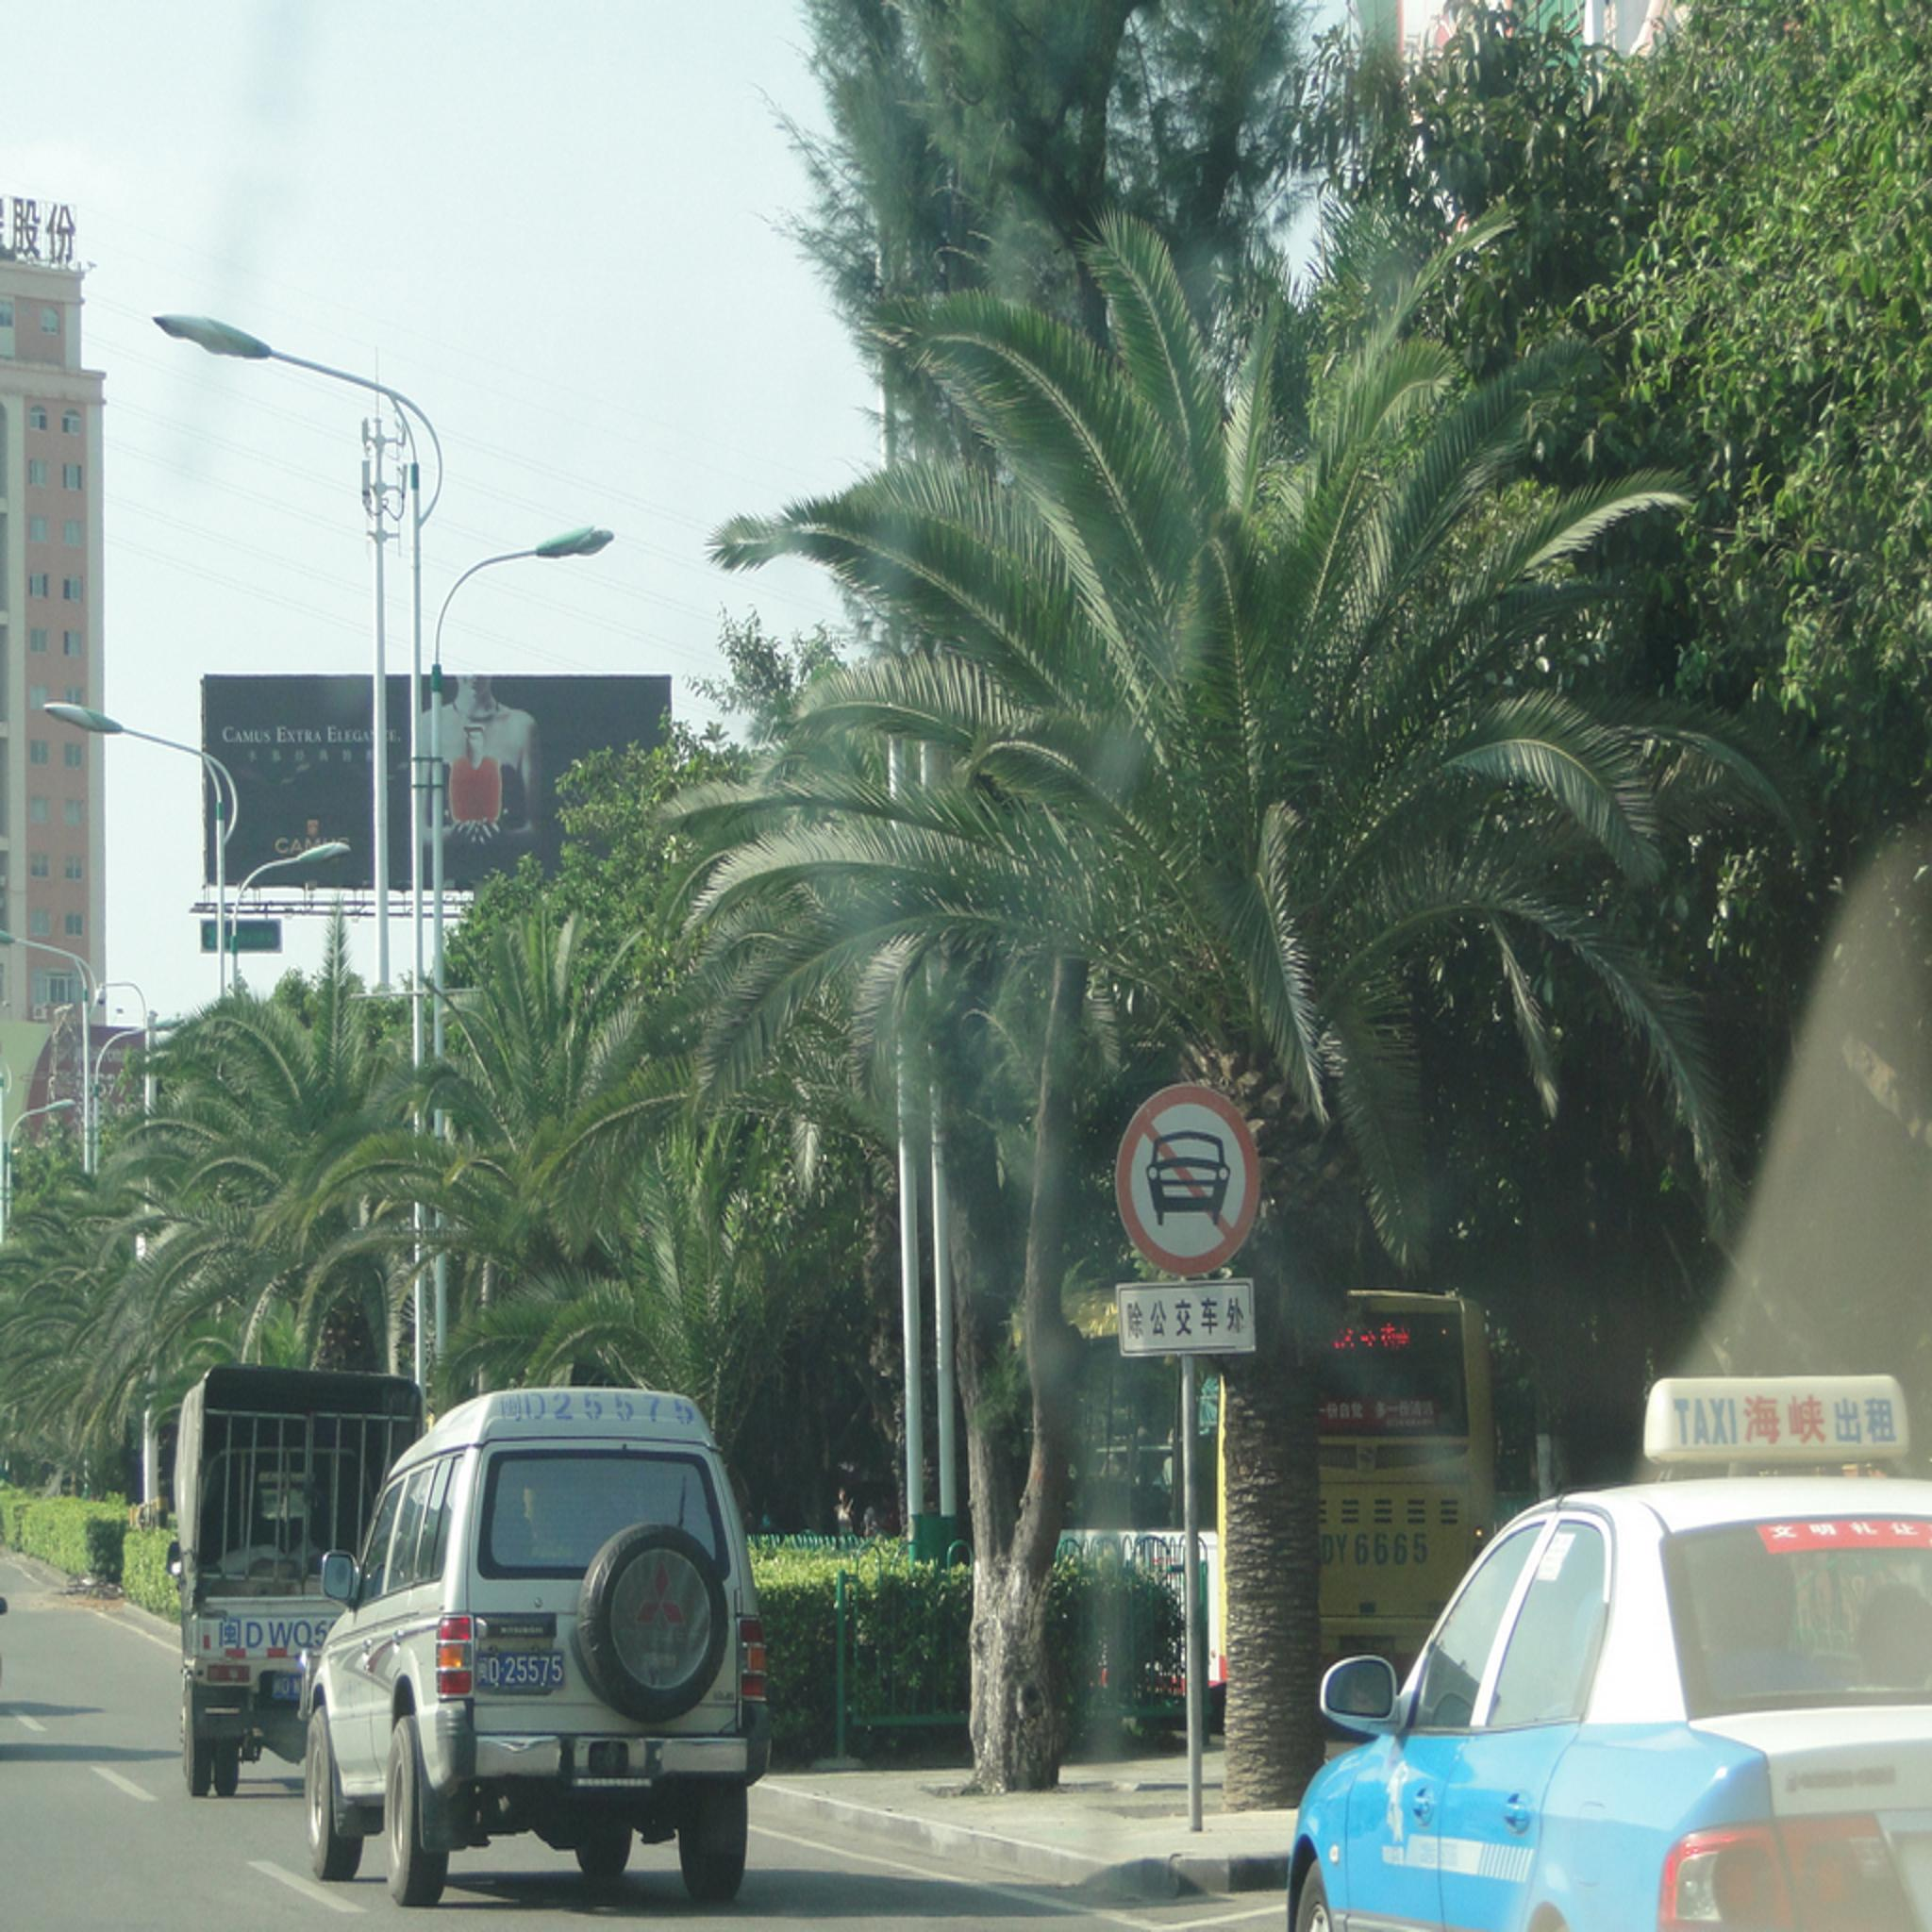p10: (1109, 1083, 1256, 1281)
